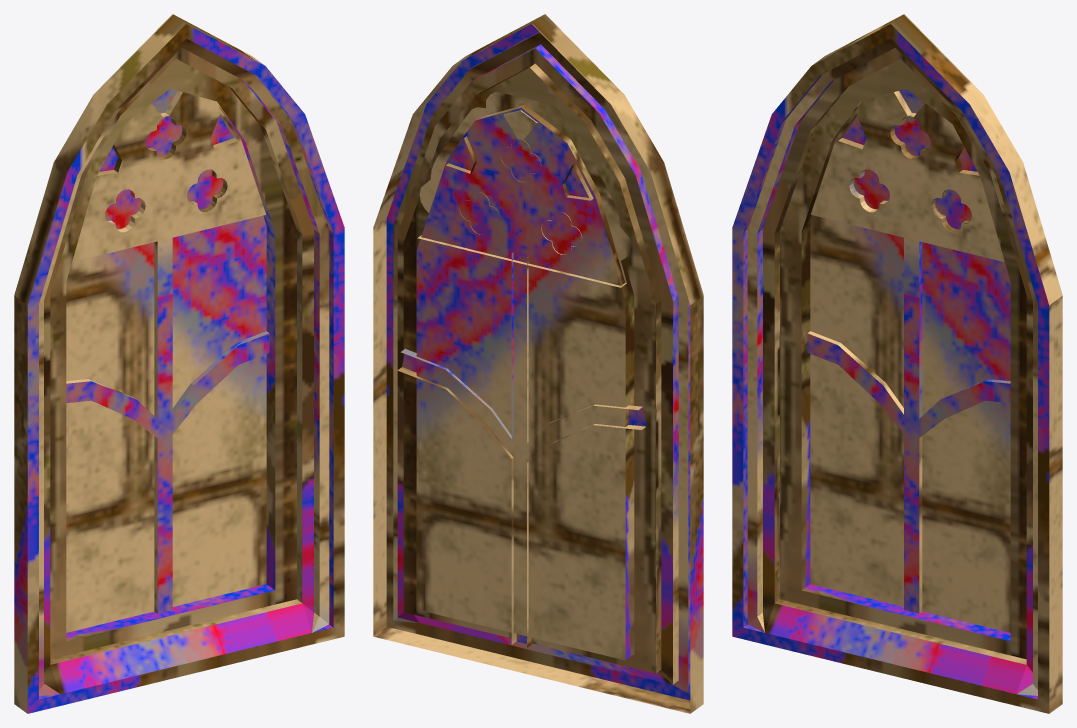
File: SM_Ventana2.fbx
3 views of the same model, side by side, from view 1: azimuth 30°, elevation 25°; view 2: azimuth 150°, elevation 25°; view 3: azimuth 330°, elevation 25° (orthographic).
Visible parts, largest first — view 1: SM_Ventana2; view 2: SM_Ventana2; view 3: SM_Ventana2.
Part boxes in pixels (bbox=[...]): SM_Ventana2: bbox=[14, 14, 344, 713]; SM_Ventana2: bbox=[373, 14, 703, 713]; SM_Ventana2: bbox=[732, 14, 1062, 713].
Size of the model in its own units: 102 by 200 by 15.07.
